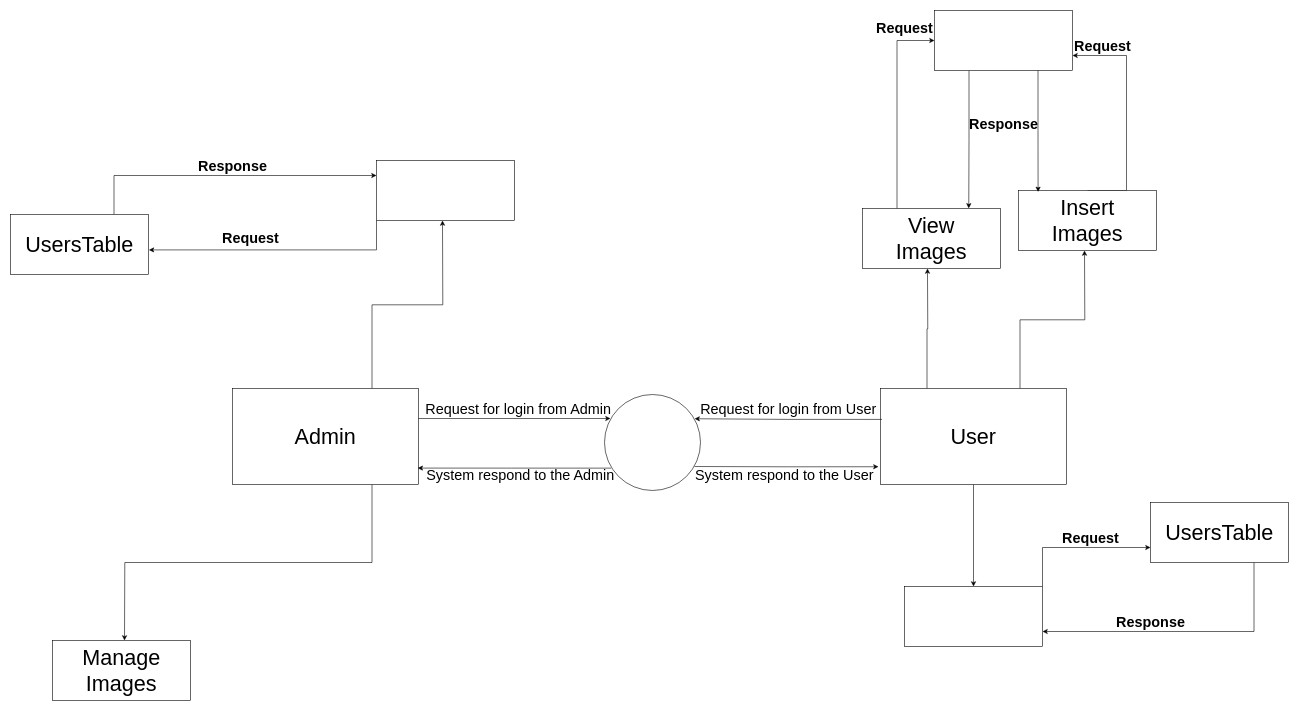
The diagram is 1299 pixels wide and 711 high, and some of its shapes have lost their labels. Here are the shapes that lost their labels. From the top down, the box of each, then its label:
(934, 10, 1072, 70): LoginTable
(376, 160, 514, 220): Manage Users
(604, 394, 700, 490): Image Gallery
(904, 586, 1042, 646): New Registration
